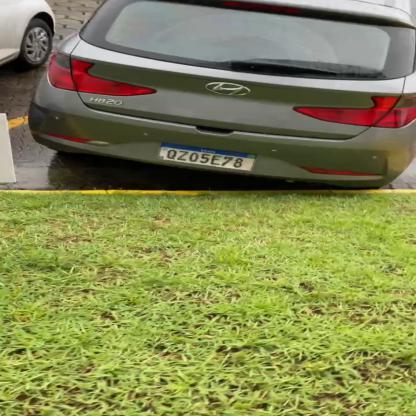Plate: (154, 136, 260, 176)
